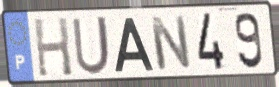4: (196, 11, 226, 72)
9: (234, 11, 264, 69)
A: (113, 15, 156, 74)
H: (32, 15, 75, 78)
N: (148, 14, 193, 72)
U: (70, 14, 113, 77)
